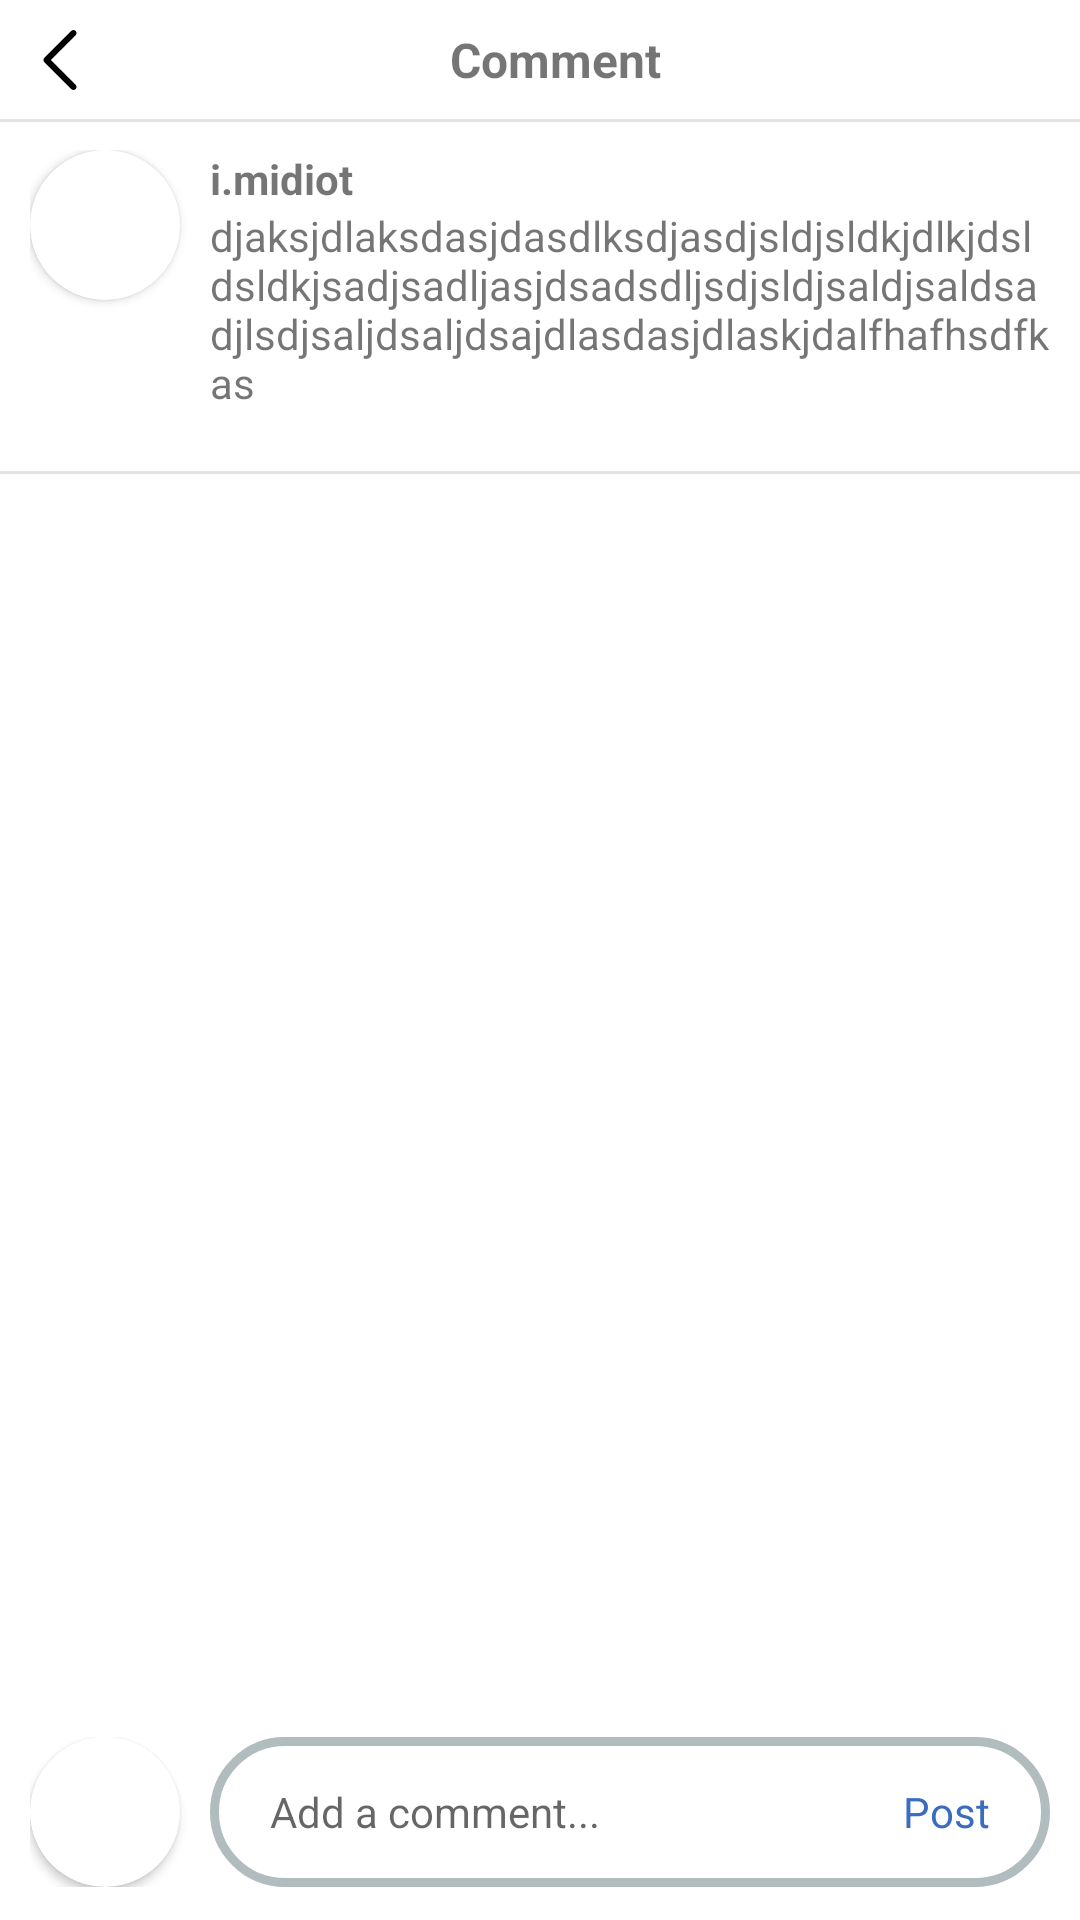

Screen size 1080*1920. Icon name, then its center in pixels as point (x, y):
back: point (60, 60)
